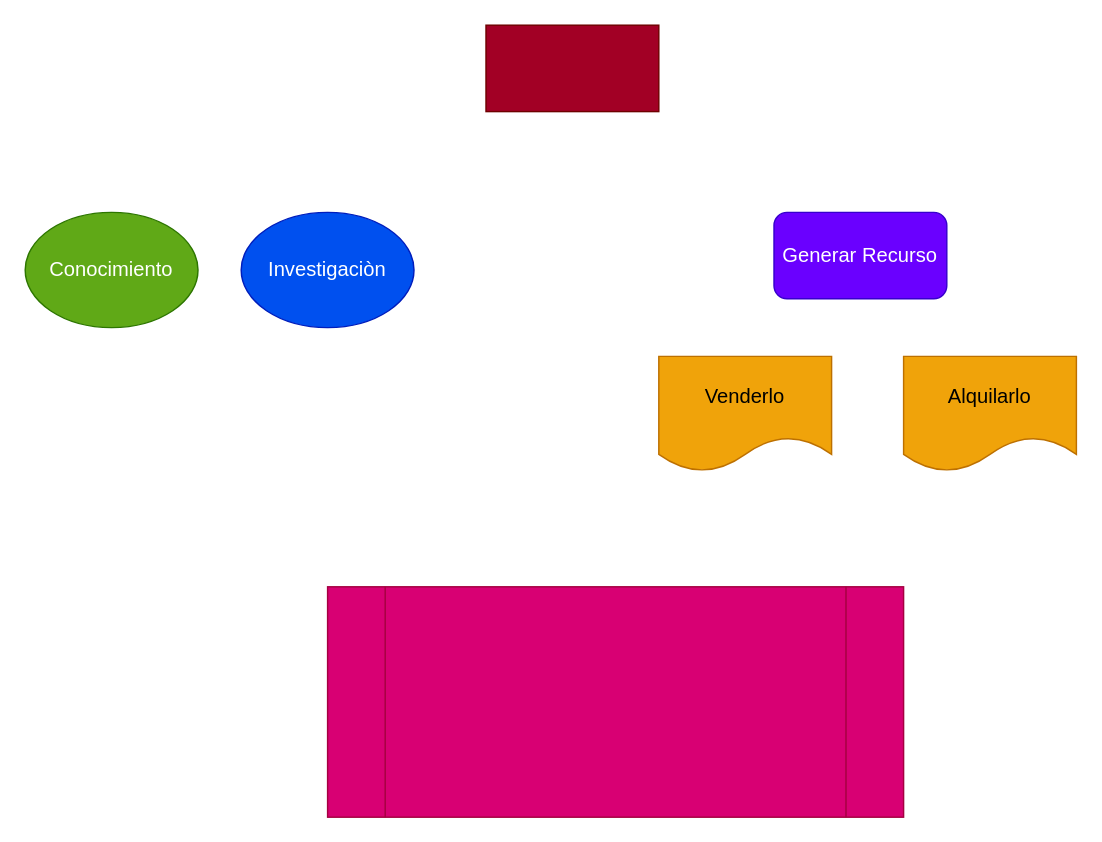
Image size: 1102x842. Some labels were removed from this diagram. Each missing label, with the centre of its shape:
"Producto" goes at point (615, 701).
"Proyecto" goes at point (572, 68).
